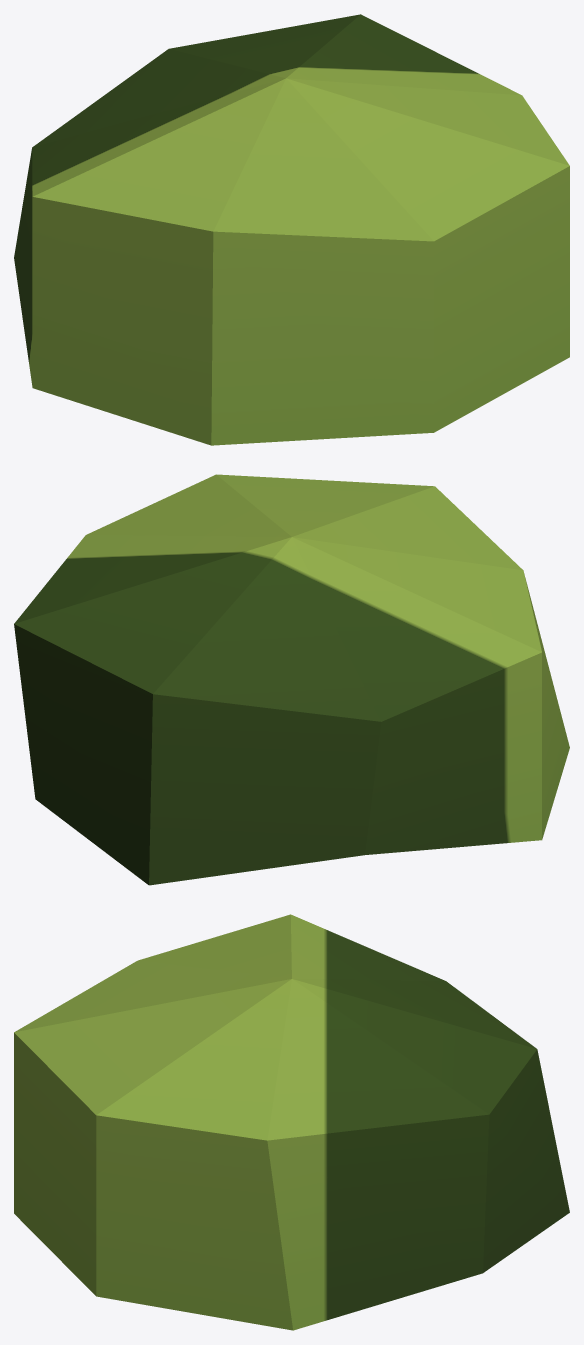
File: Rock_18.fbx
3 views of the same model, one above another, from view 1: azimuth 30°, elevation 25°; view 2: azimuth 150°, elevation 25°; view 3: azimuth 270°, elevation 25° (orthographic). The views are drawn at different scales.
Parts seen in each view (by area): view 1: Rock_18; view 2: Rock_18; view 3: Rock_18.
Boxes of the visible parts, x1=… form: Rock_18: x1=14, y1=14, x2=569, y2=445; Rock_18: x1=14, y1=474, x2=569, y2=885; Rock_18: x1=14, y1=914, x2=569, y2=1330.
Bounding box in the file's own units: 1.54 × 0.8124 × 1.54.
